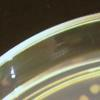yellow: (89, 84, 100, 94), (78, 94, 89, 100)
